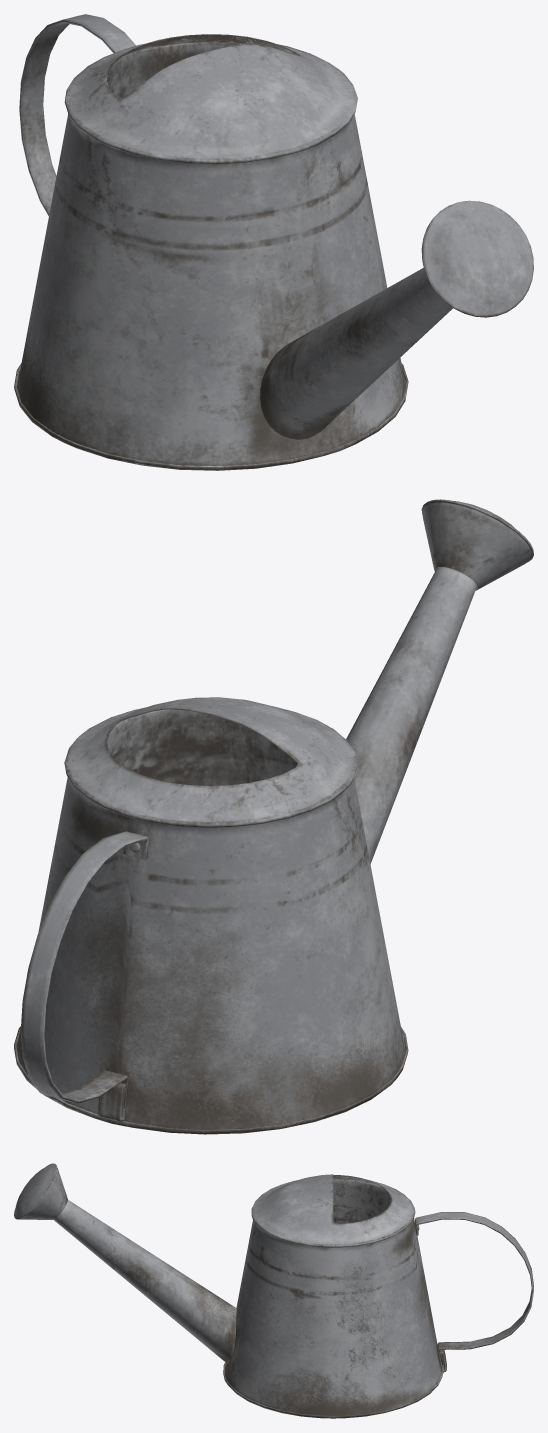
The model's file is watering_can_metal_01.glb.
3 views of the same model, one above another, from view 1: azimuth 30°, elevation 25°; view 2: azimuth 150°, elevation 25°; view 3: azimuth 270°, elevation 25° (orthographic). The views are drawn at different scales.
Visible parts, largest first — view 1: watering_can_metal_01; view 2: watering_can_metal_01; view 3: watering_can_metal_01.
Boxes of the visible parts, <box> form: watering_can_metal_01: <box>14,14,533,470</box>; watering_can_metal_01: <box>14,499,533,1134</box>; watering_can_metal_01: <box>14,1163,533,1418</box>.
Size of the model in its own units: 0.191 by 0.1968 by 0.4523.
Materials: 1 (1 with a texture image).
